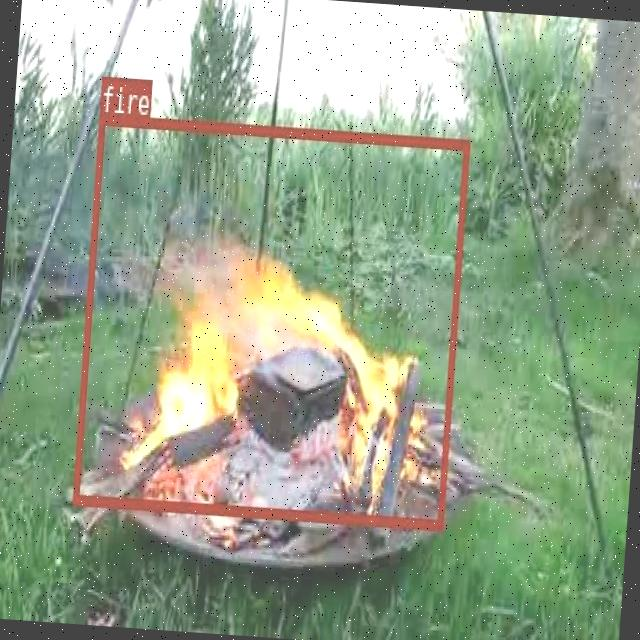fire: (71, 111, 468, 528)
